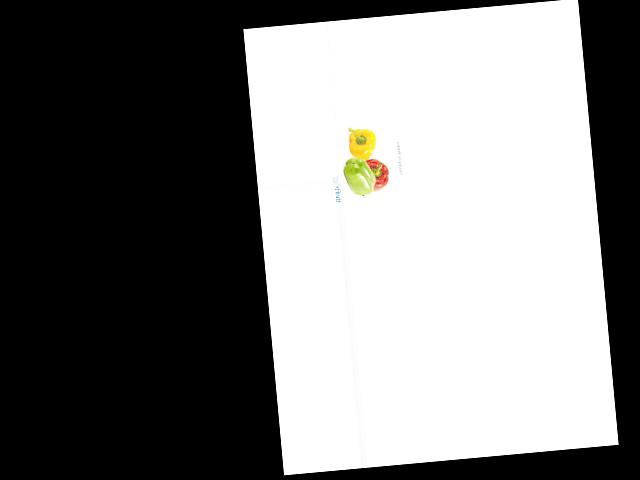bell_pepper: (338, 153, 376, 199)
